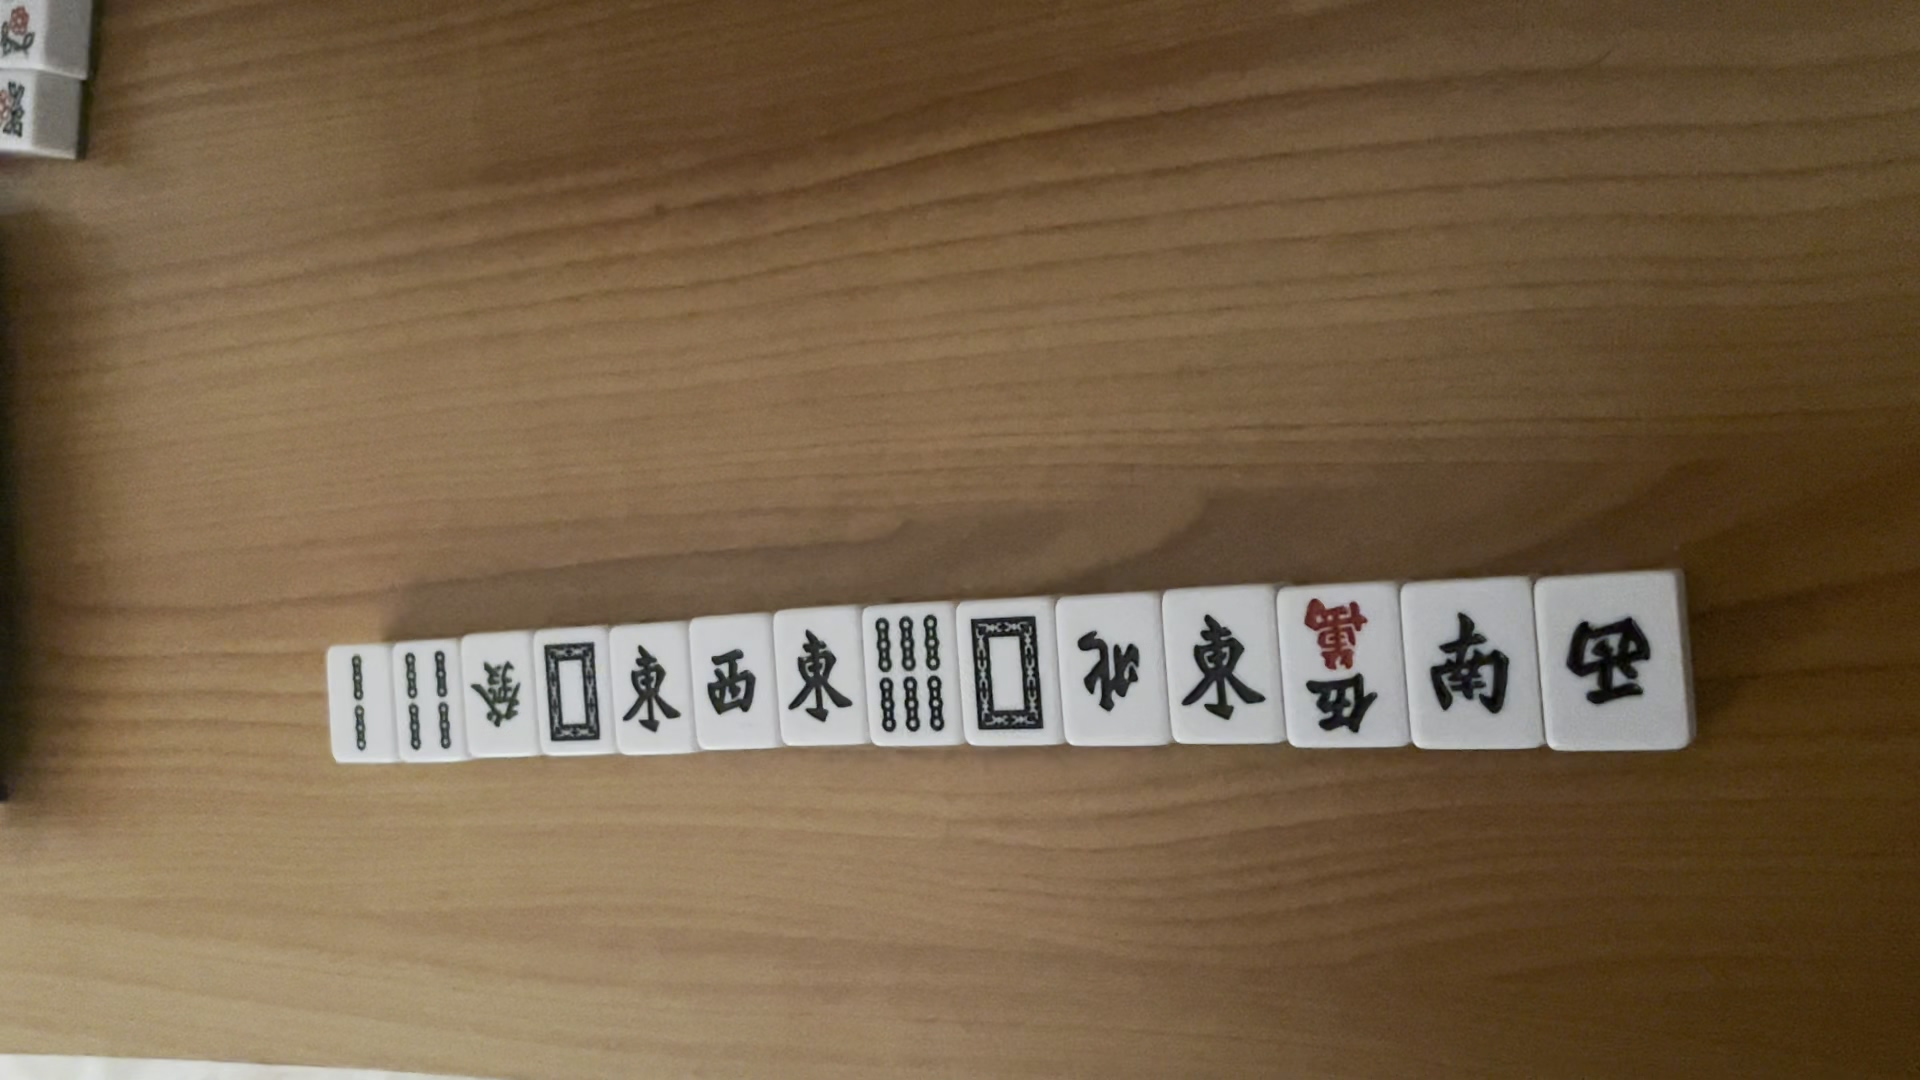b-2: (334, 647, 377, 760)
b-4: (400, 646, 455, 760)
b-6: (868, 609, 957, 742)
c-5: (1299, 593, 1381, 740)
honors-east: (1178, 613, 1269, 723), (782, 625, 855, 731), (620, 641, 676, 744)
honors-green: (471, 653, 525, 727)
honors-north: (1067, 621, 1153, 720)
honors-south: (1423, 607, 1526, 740), (1563, 605, 1655, 713), (700, 644, 760, 721)
honors-white: (960, 609, 1047, 735), (539, 640, 609, 750)
